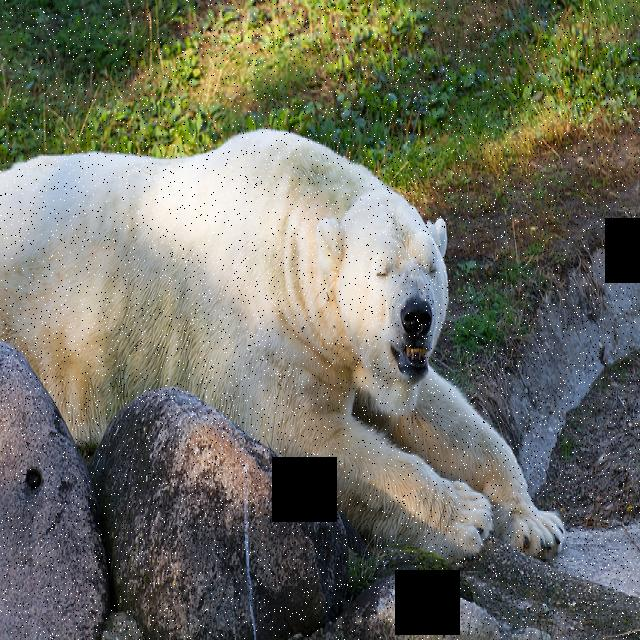Bear: (0, 126, 565, 580)
